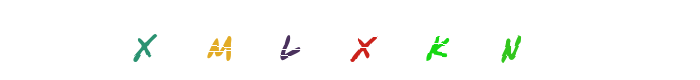K: (323, 0, 403, 80)
L: (283, 0, 363, 80)
M: (192, 0, 272, 80)
N: (435, 0, 515, 80)
X: (170, 0, 250, 80), (310, 0, 390, 80)
